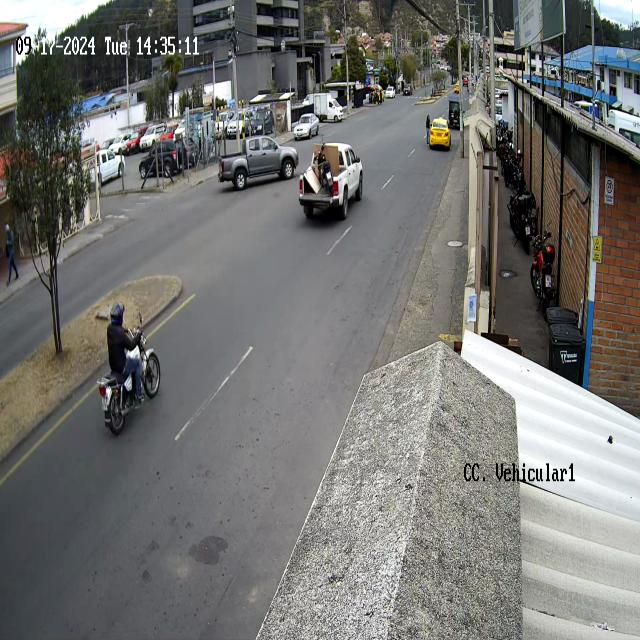CMT: (298, 142, 364, 224), (218, 134, 299, 190)
